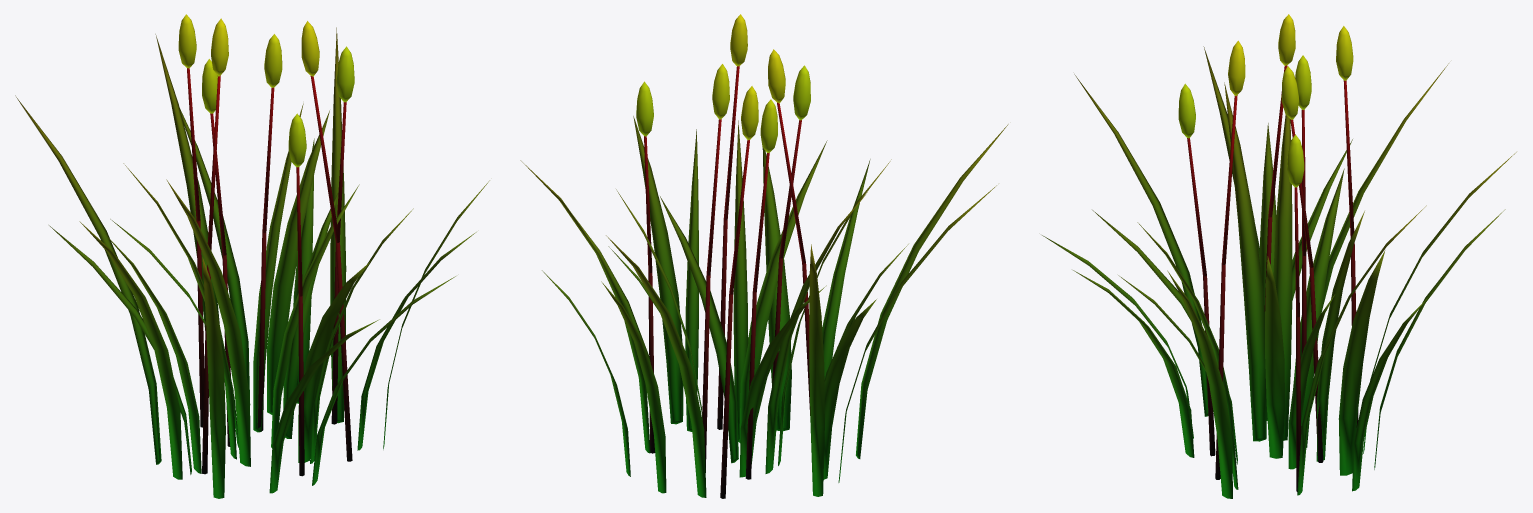
Rendered from SM_MeadowTall.fbx.
3 renders of one model, left to right at view 1: azimuth 30°, elevation 25°; view 2: azimuth 150°, elevation 25°; view 3: azimuth 270°, elevation 25°, orthographic. The views are drawn at different scales.
Parts seen in each view (by area): view 1: SM_MeadowTall; view 2: SM_MeadowTall; view 3: SM_MeadowTall.
Boxes of the visible parts, x1=… form: SM_MeadowTall: x1=15, y1=14, x2=489, y2=498; SM_MeadowTall: x1=520, y1=14, x2=1008, y2=498; SM_MeadowTall: x1=1042, y1=14, x2=1516, y2=498.
Bounding box in the file's own units: 123 × 134 × 131.
